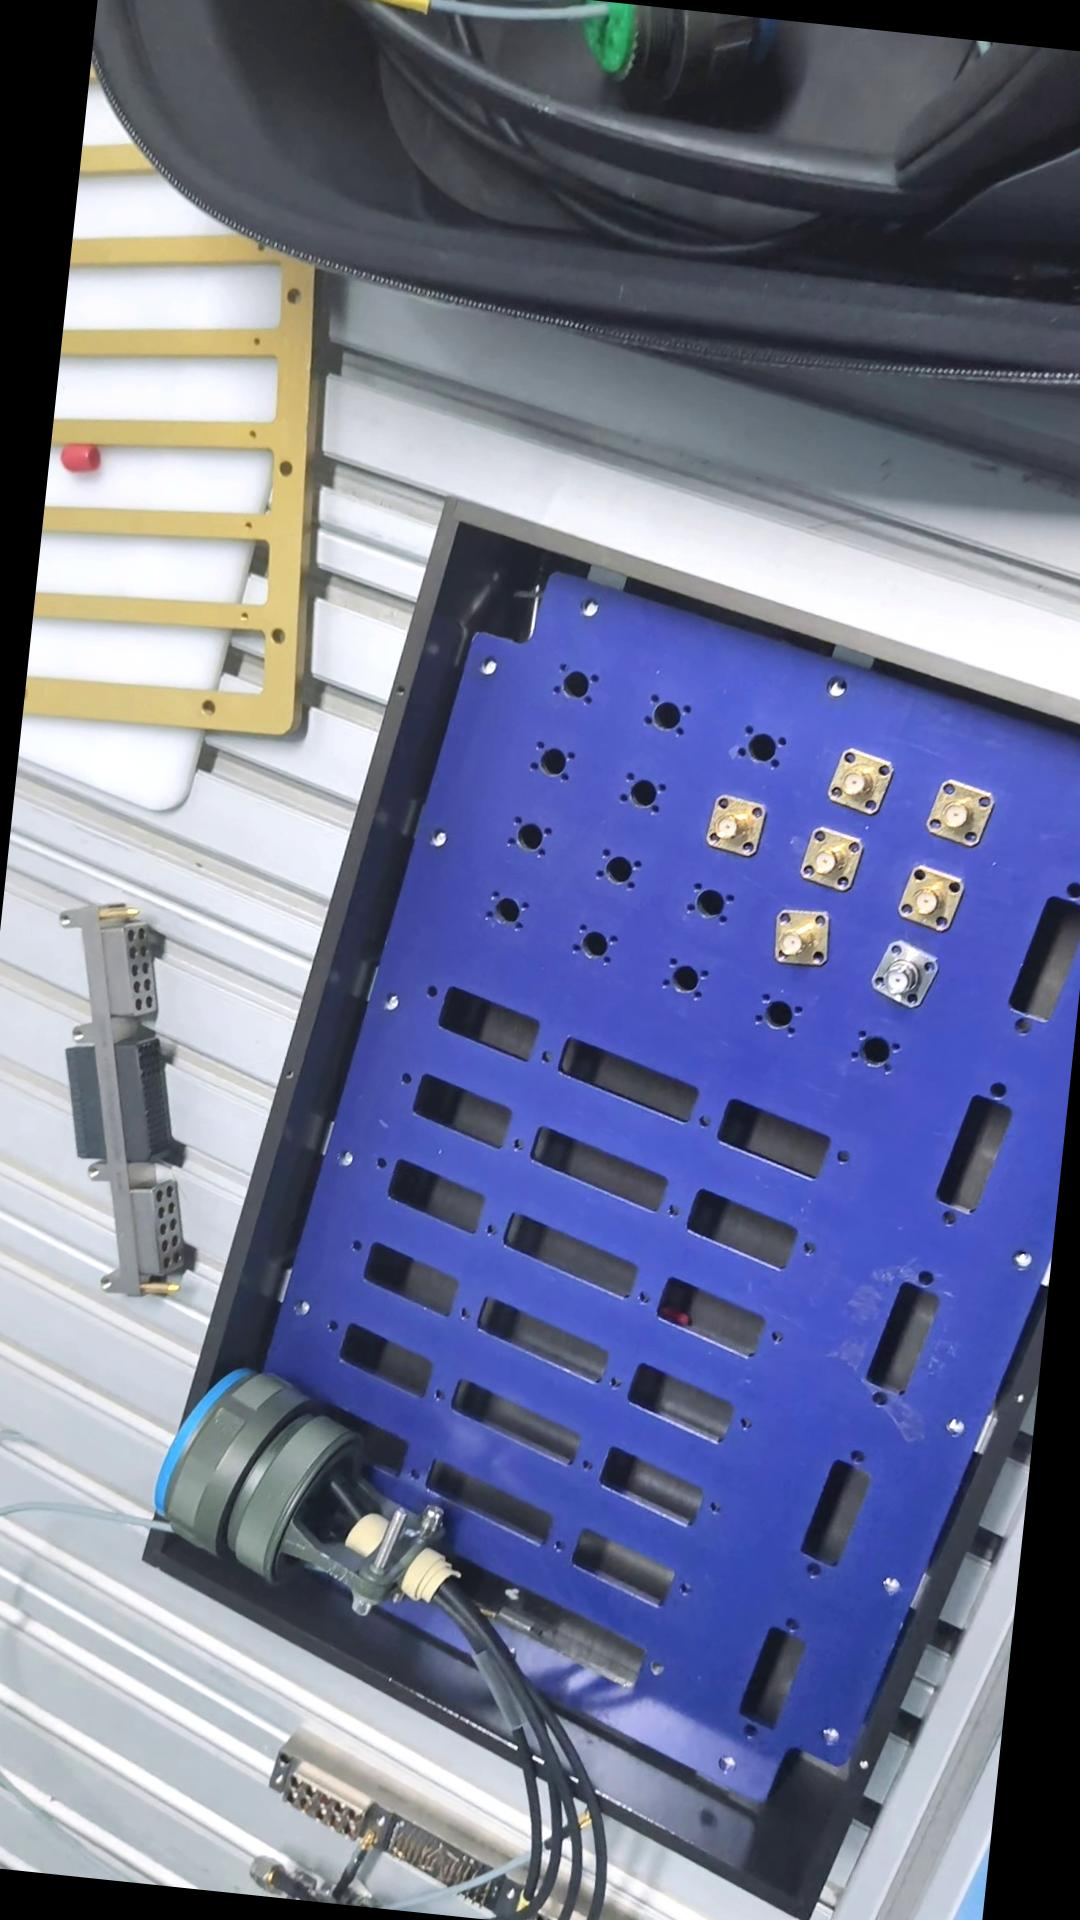SMA: (862, 932, 939, 1013), (886, 860, 963, 931), (923, 777, 996, 851), (793, 822, 866, 891), (760, 903, 831, 971), (822, 746, 890, 815), (696, 796, 766, 860)
